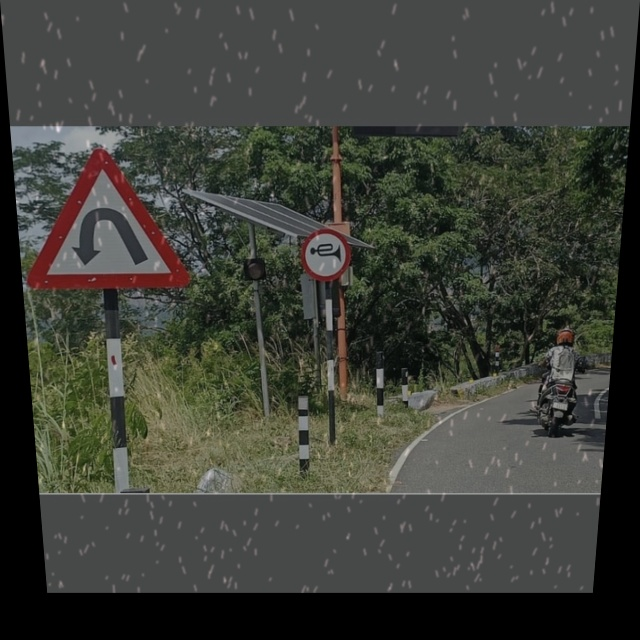Left_Hair_Pin_Bend: (21, 150, 192, 293)
